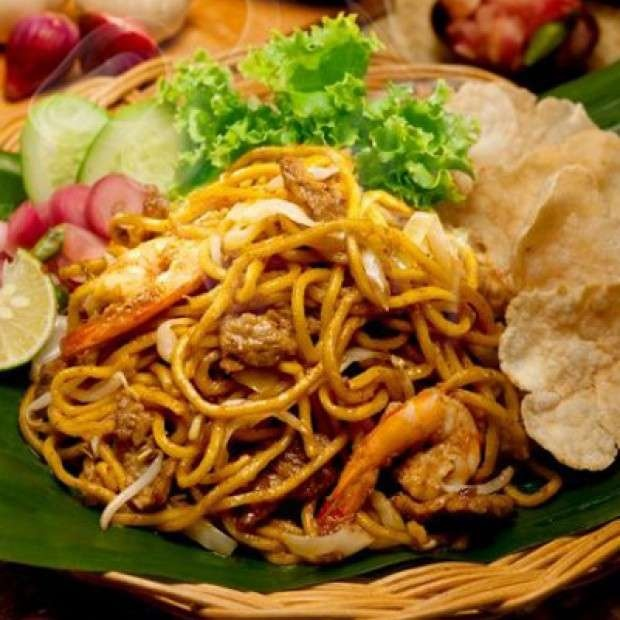mie_aceh: (56, 155, 541, 563)
